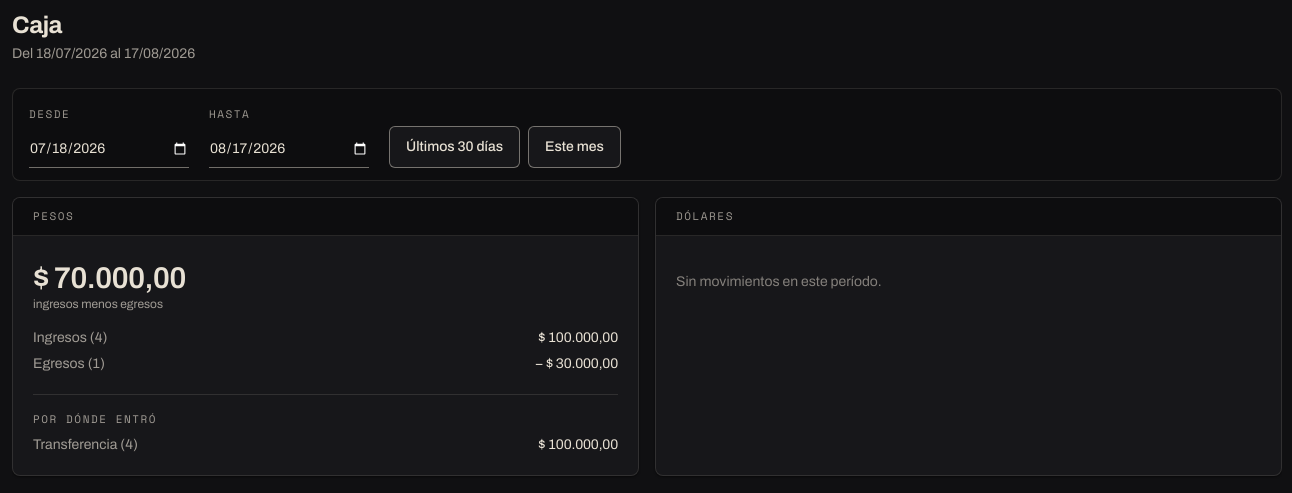
Scenario: el período › una caja que falla no deja los números viejos en pantalla
Expected: the text "$ 70.000,00" is shown, x1=33 y1=262 x2=186 y2=294
Click the button "Este mes".
click(574, 147)  # box x1=528 y1=126 x2=621 y2=168
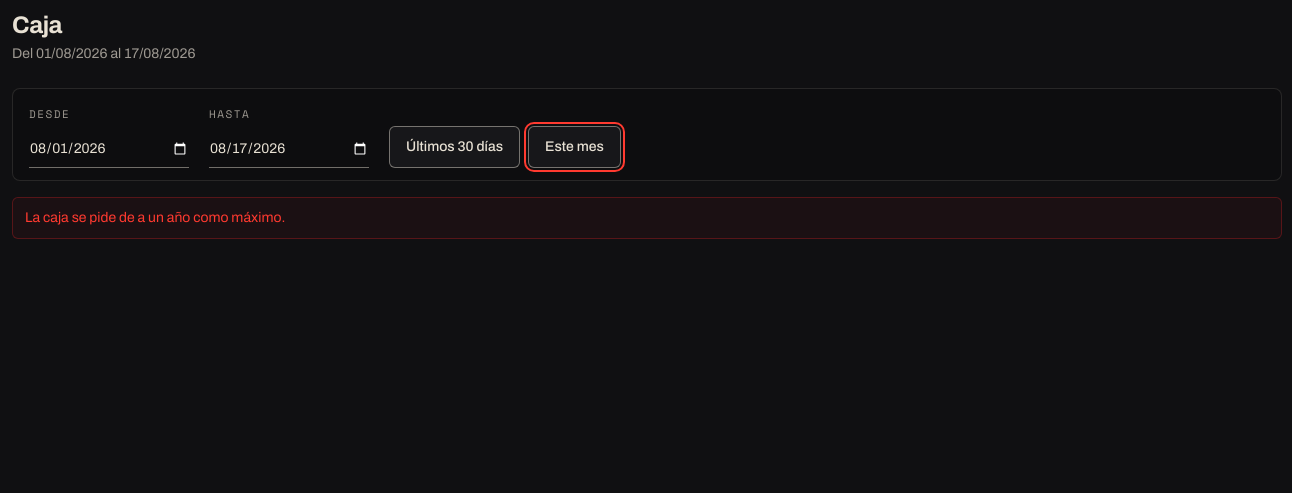
Result: the text "La caja se pide de a un año como máximo." is shown at x1=12 y1=197 x2=1282 y2=239
Result: the text "$ 70.000,00" is gone
